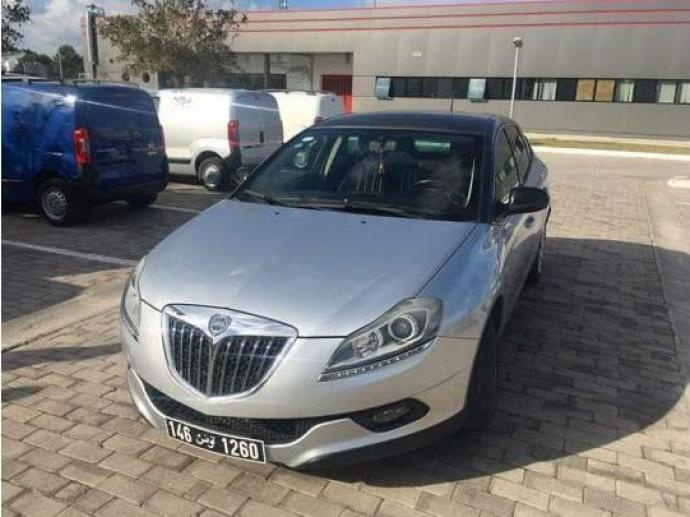LP: (162, 415, 269, 468)
